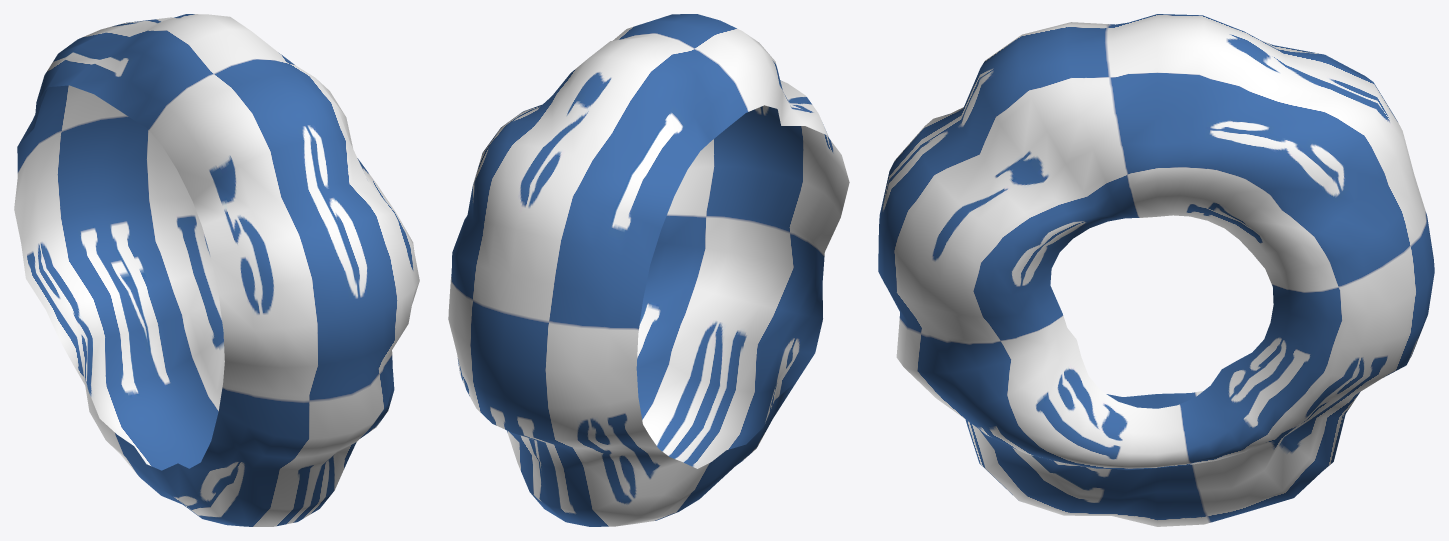
Rendered from Ring22.fbx.
The picture shows the model from 3 angles, left to right: view 1: azimuth 30°, elevation 25°; view 2: azimuth 150°, elevation 25°; view 3: azimuth 270°, elevation 25°; orthographic projection. The views are drawn at different scales.
Parts seen in each view (by area): view 1: SM_e_Useful_FireRing010; view 2: SM_e_Useful_FireRing010; view 3: SM_e_Useful_FireRing010.
Boxes of the visible parts, x1,y1,x2,y2 form: SM_e_Useful_FireRing010: (14,14,419,526); SM_e_Useful_FireRing010: (448,14,849,526); SM_e_Useful_FireRing010: (878,14,1434,526).
Bounding box in the file's own units: 85.27 × 180 × 185.
